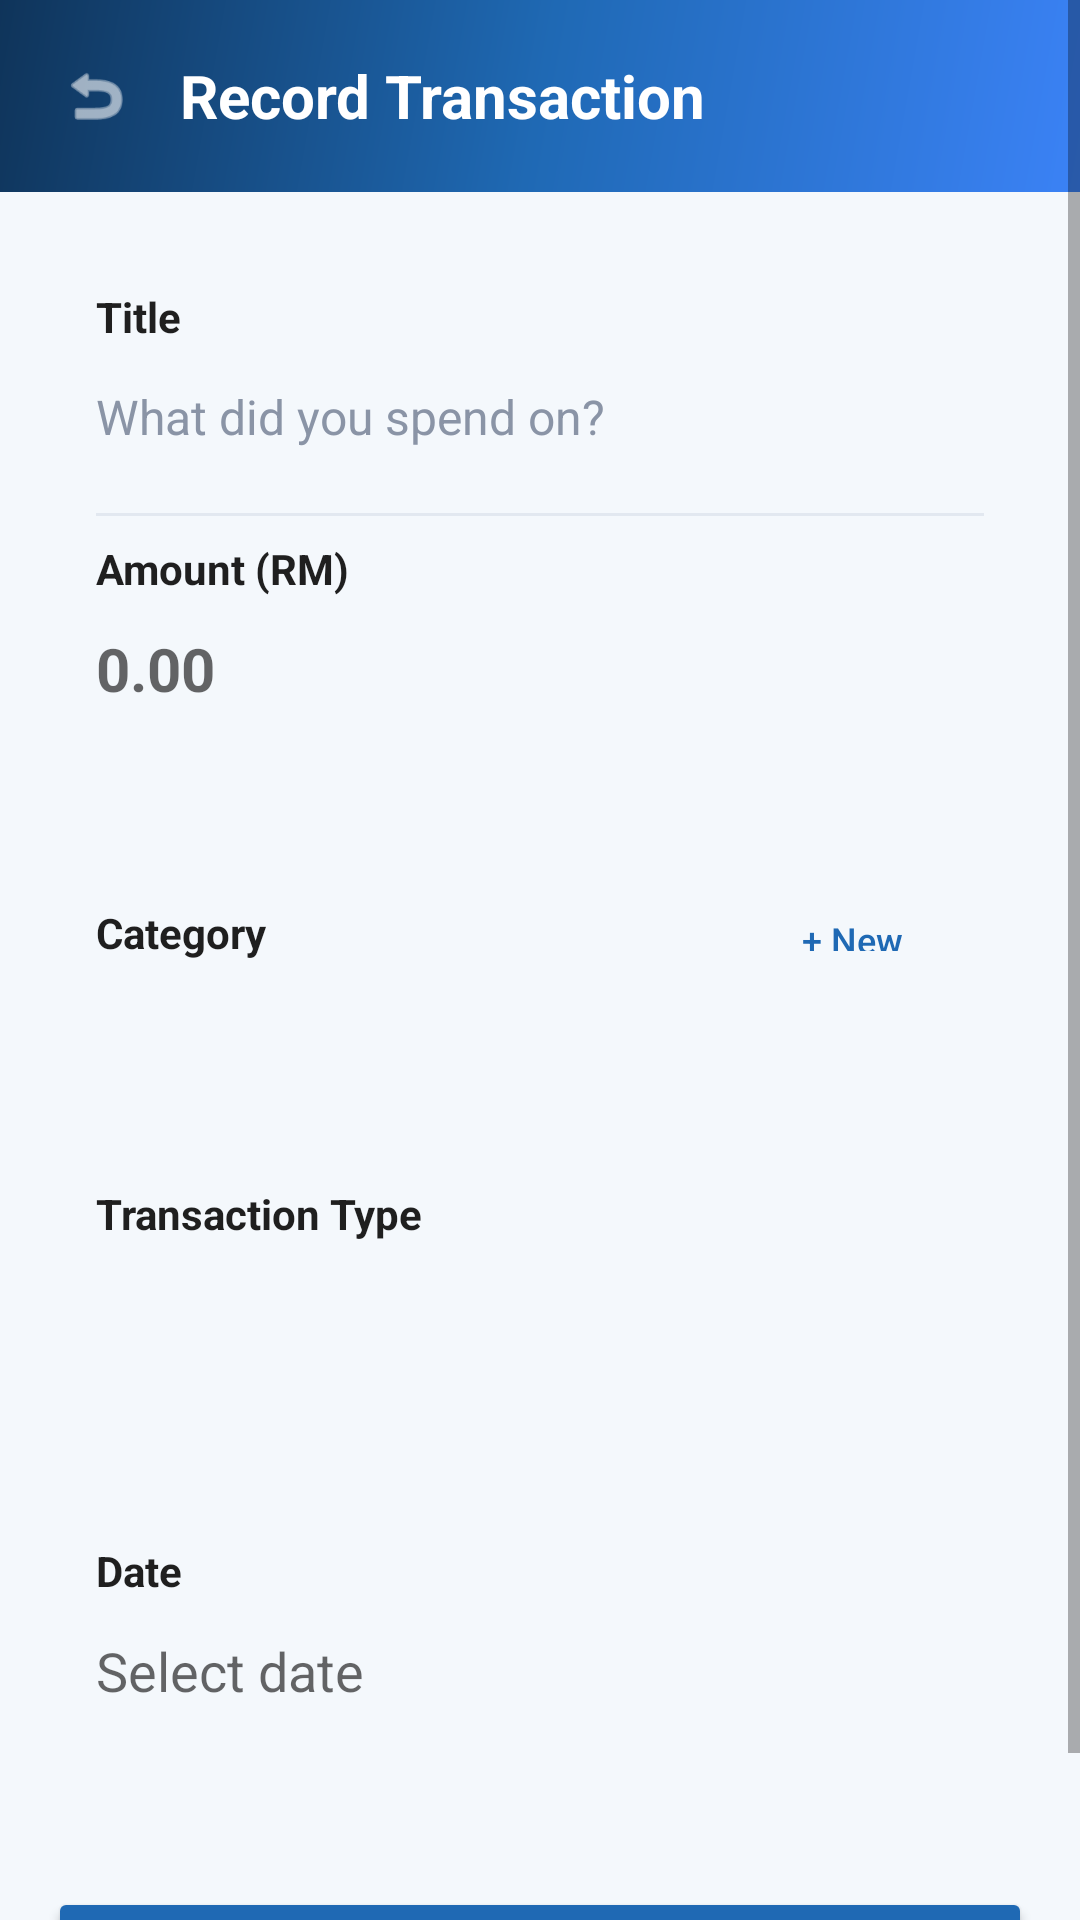

Point at icon controls on the screen. Image size 1080px×1920px, points as (x=x, y=y).
revert: (x=97, y=96)
